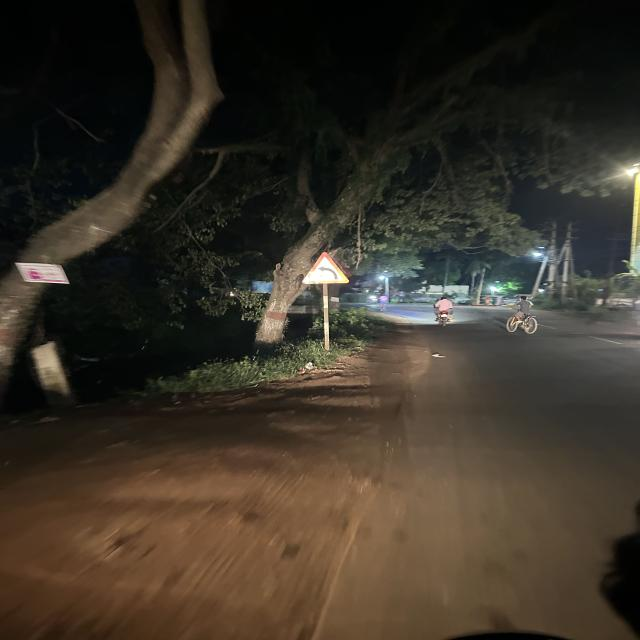left_hand_curve: (300, 252, 352, 286)
